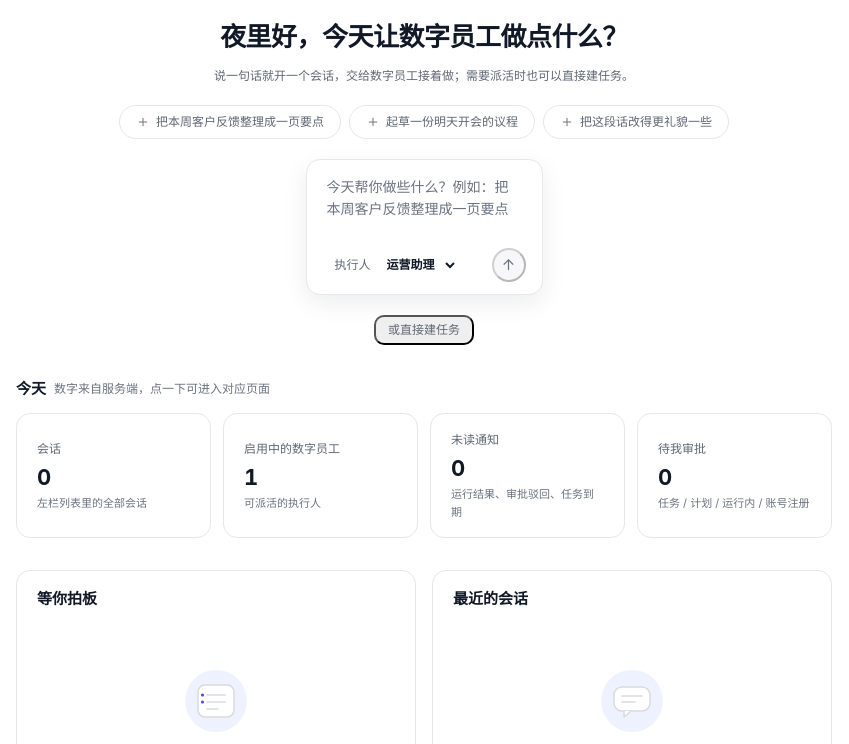
HomePage › surfaces a rejected conversation creation without navigating or inventing a success
Expected: the heading "夜里好，今天让数字员工做点什么？" is shown, left=220, top=16, right=628, bottom=58
Type "整理客户反馈" into the text box named "想对数字员工说的话" at (424, 198), box left=306, top=160, right=542, bottom=236
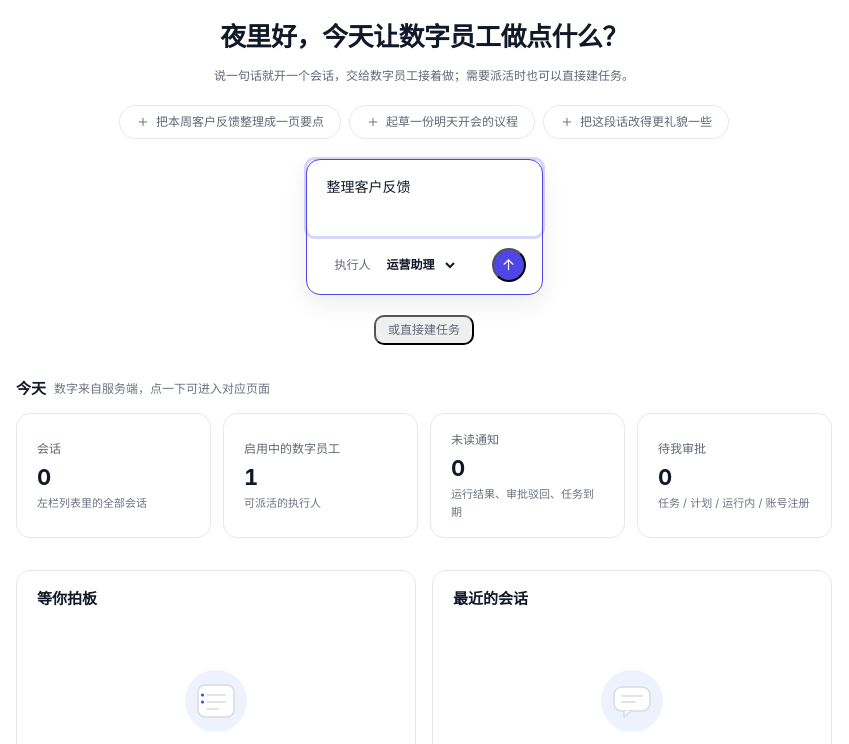
Click the button named "开始对话" at (508, 265), box left=492, top=248, right=526, bottom=282
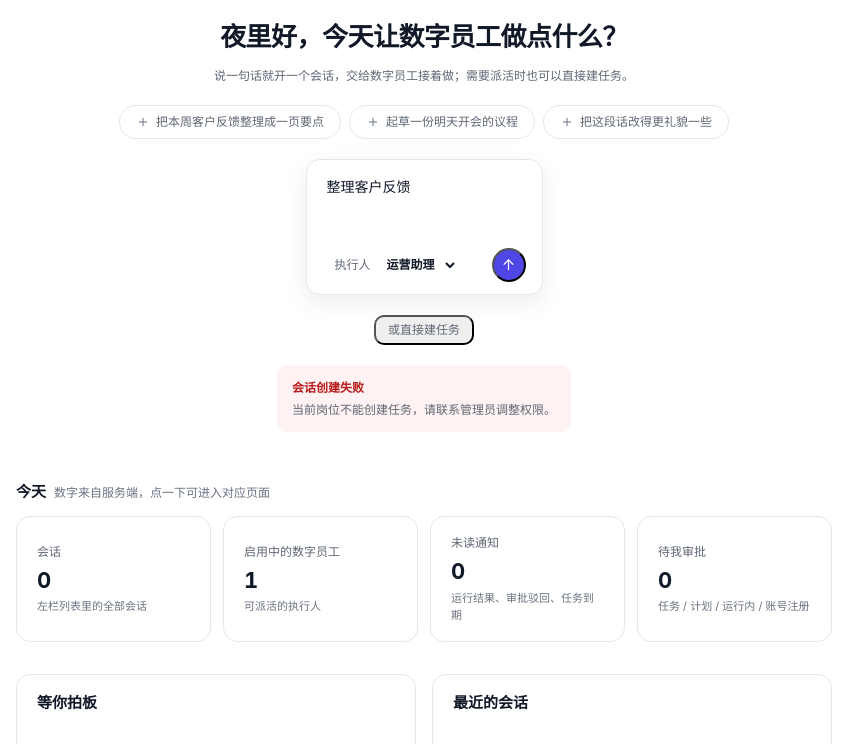
Expected: the text "会话创建失败" is shown, left=292, top=380, right=364, bottom=395
